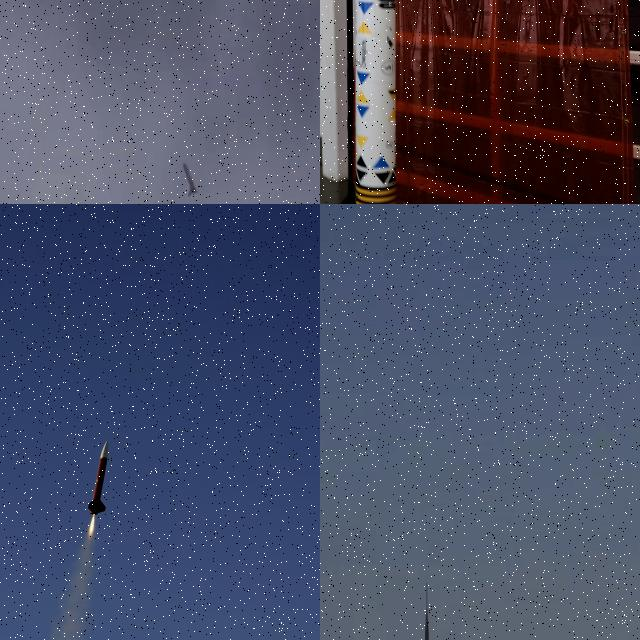Rocket: (354, 0, 397, 204), (87, 440, 109, 515), (184, 163, 198, 197), (423, 610, 431, 640)
